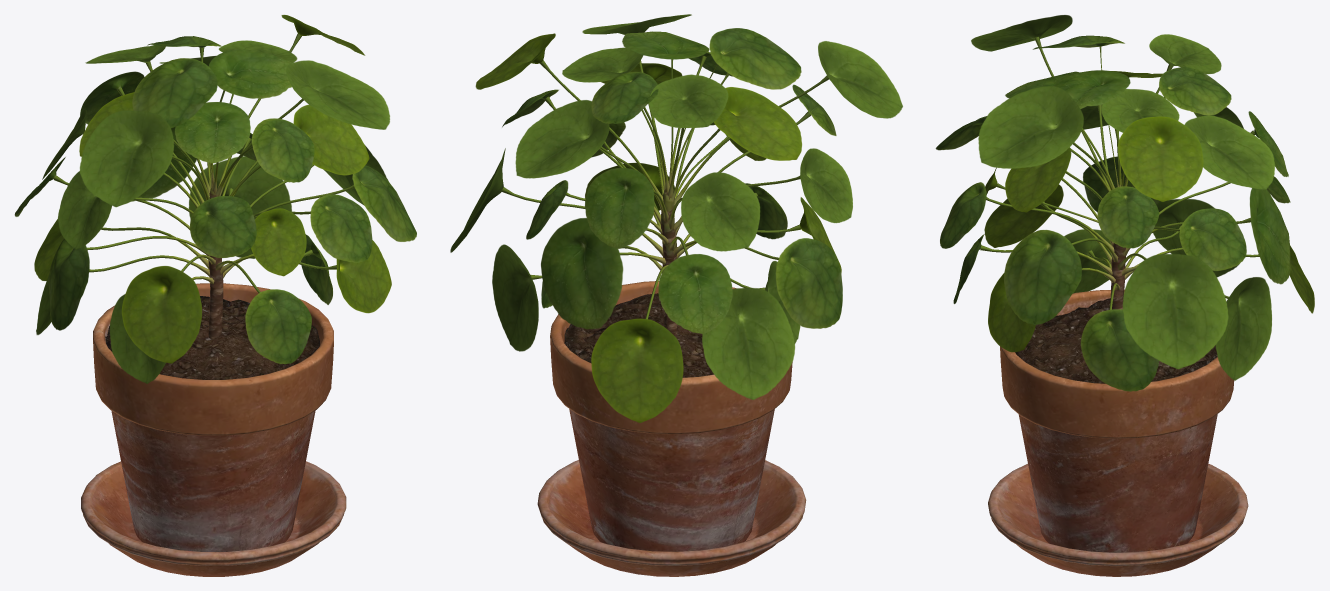
The model's file is plant_free_pilea_peperomioides_terracotta_allquad.glb.
3 views of the same model, side by side, from view 1: azimuth 30°, elevation 25°; view 2: azimuth 150°, elevation 25°; view 3: azimuth 270°, elevation 25° (orthographic). The views are drawn at different scales.
Parts seen in each view (by area): view 1: PILEA_PEPEROMIOIDES_PILEA_Mat_0, POT_TERRACOTTA_SMALL_POT_TERRACOTTA_SMALL_0; view 2: PILEA_PEPEROMIOIDES_PILEA_Mat_0, POT_TERRACOTTA_SMALL_POT_TERRACOTTA_SMALL_0; view 3: PILEA_PEPEROMIOIDES_PILEA_Mat_0, POT_TERRACOTTA_SMALL_POT_TERRACOTTA_SMALL_0.
Boxes of the visible parts, left/top/right/bottom form: PILEA_PEPEROMIOIDES_PILEA_Mat_0: left=14, top=15, right=416, bottom=383; POT_TERRACOTTA_SMALL_POT_TERRACOTTA_SMALL_0: left=81, top=283, right=346, bottom=576; PILEA_PEPEROMIOIDES_PILEA_Mat_0: left=450, top=14, right=902, bottom=422; POT_TERRACOTTA_SMALL_POT_TERRACOTTA_SMALL_0: left=537, top=281, right=806, bottom=576; PILEA_PEPEROMIOIDES_PILEA_Mat_0: left=935, top=15, right=1314, bottom=391; POT_TERRACOTTA_SMALL_POT_TERRACOTTA_SMALL_0: left=988, top=289, right=1248, bottom=576.
Size of the model in its own units: 0.368 by 0.4783 by 0.3456.
2 materials, 2 textured.
